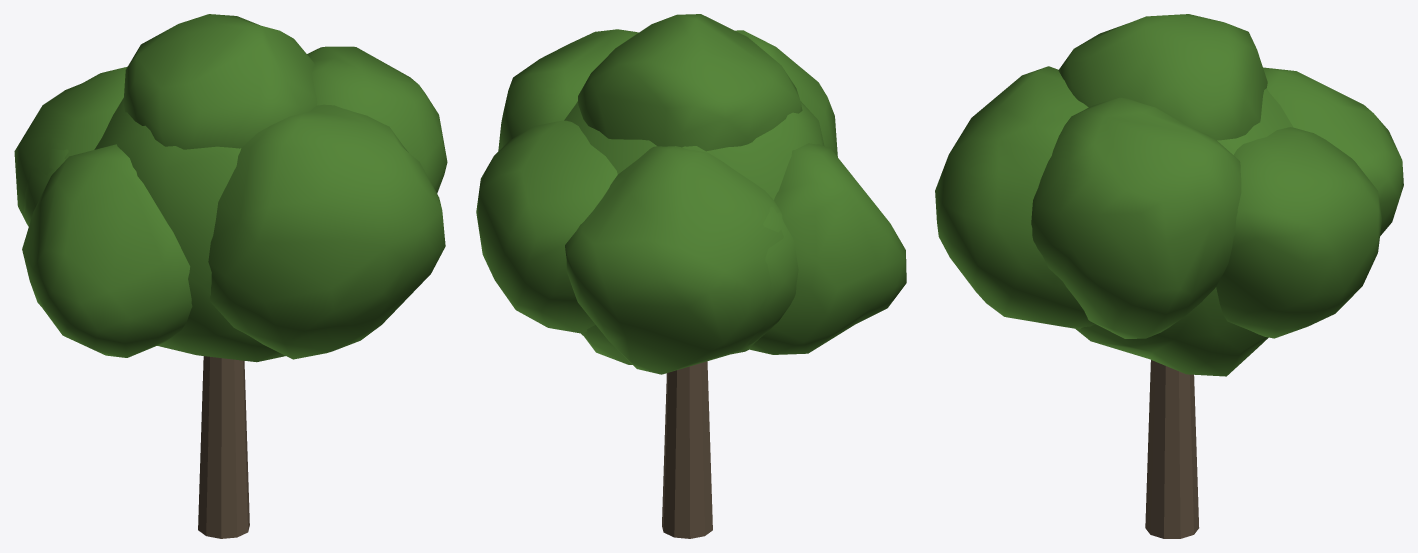
Rendered from oak.glb.
The picture shows the model from 3 angles, left to right: view 1: azimuth 30°, elevation 25°; view 2: azimuth 150°, elevation 25°; view 3: azimuth 270°, elevation 25°; orthographic projection. The views are drawn at different scales.
Visible parts, largest first — view 1: canopy, trunk; view 2: canopy, trunk; view 3: canopy, trunk.
Part boxes in pixels (left/top/right/bottom): canopy: left=14, top=14, right=447, bottom=362; trunk: left=198, top=356, right=249, bottom=538; canopy: left=476, top=14, right=906, bottom=374; trunk: left=662, top=361, right=712, bottom=538; canopy: left=935, top=14, right=1403, bottom=376; trunk: left=1145, top=360, right=1199, bottom=538.
Bounding box in the file's own units: 8.53 × 10.52 × 8.71.
